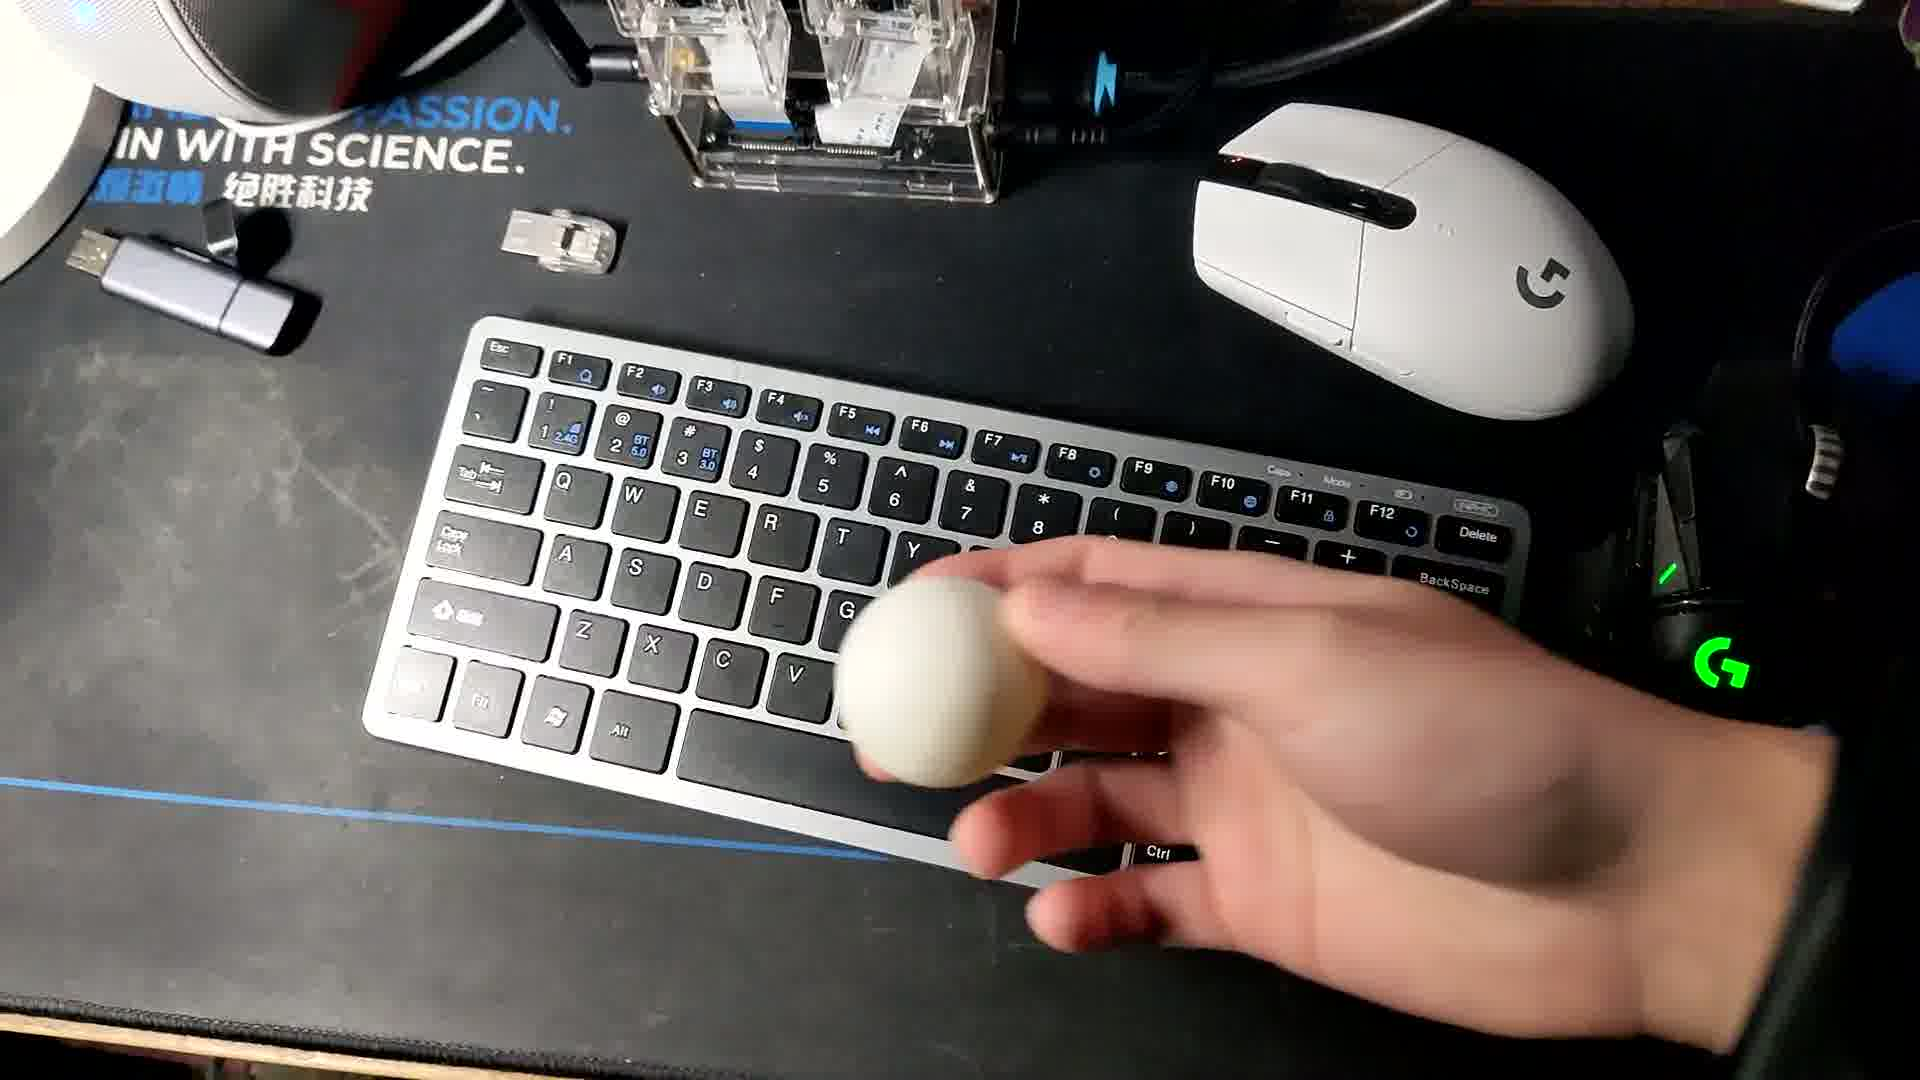Ball: (841, 574, 1040, 789)
